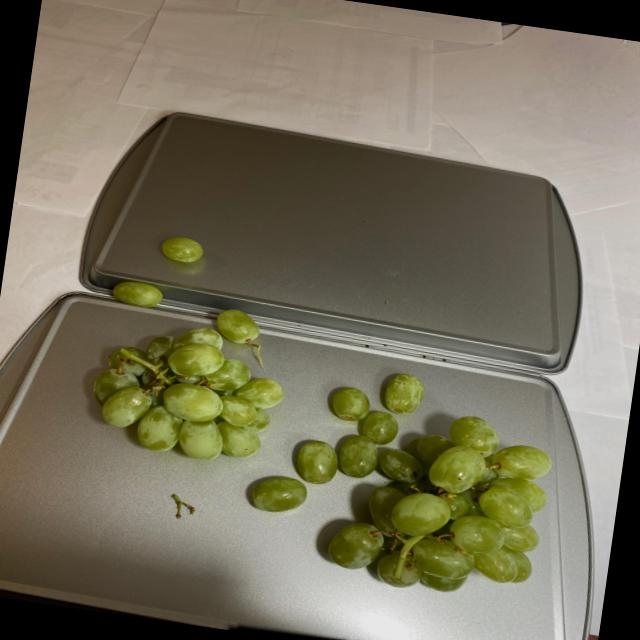grapes: (74, 228, 580, 610)
